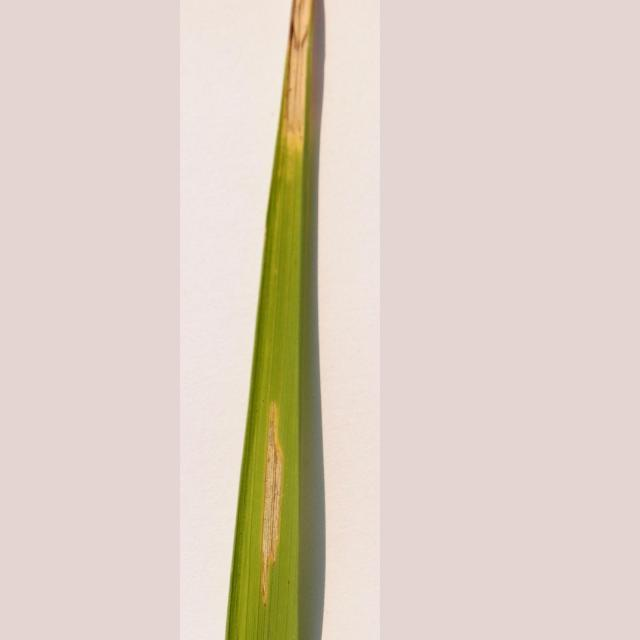leaf blight: (264, 1, 323, 176), (253, 398, 289, 615)
